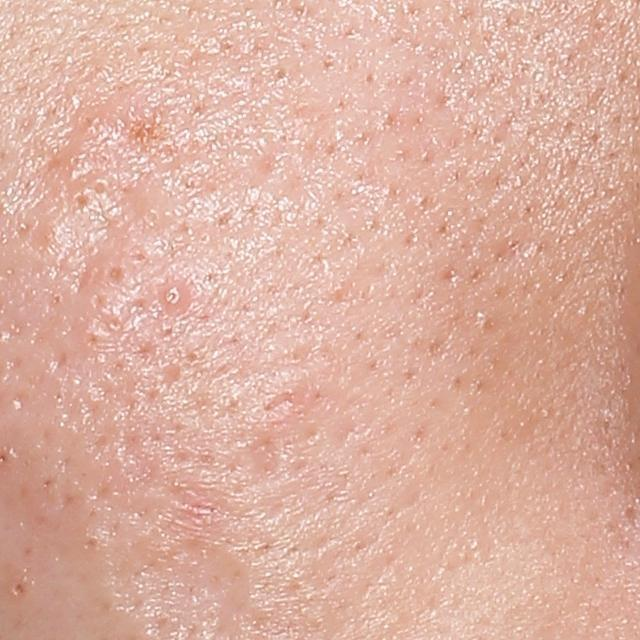atrophic_scar: (231, 438, 283, 489)
comedo: (102, 259, 134, 287), (7, 580, 32, 606)
